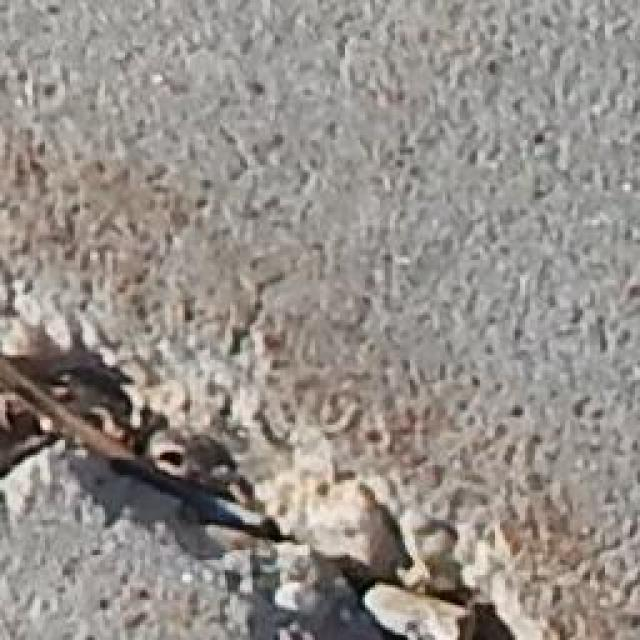concrete-crack: (0, 318, 547, 640)
